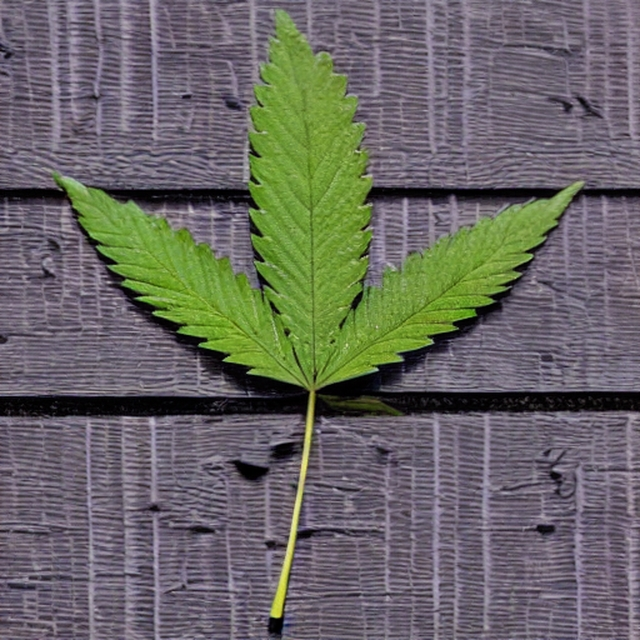Marijuana Leaf: (49, 7, 586, 638)
